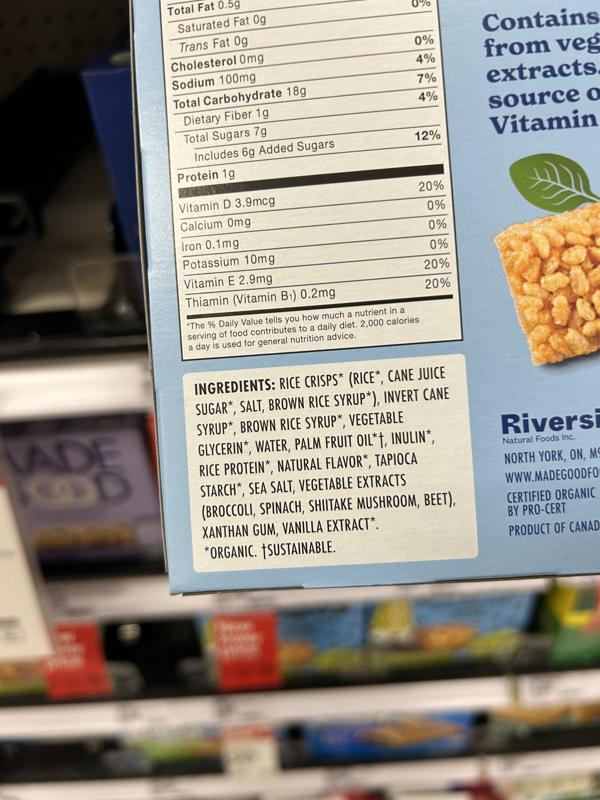ingredients: (192, 362, 464, 542)
